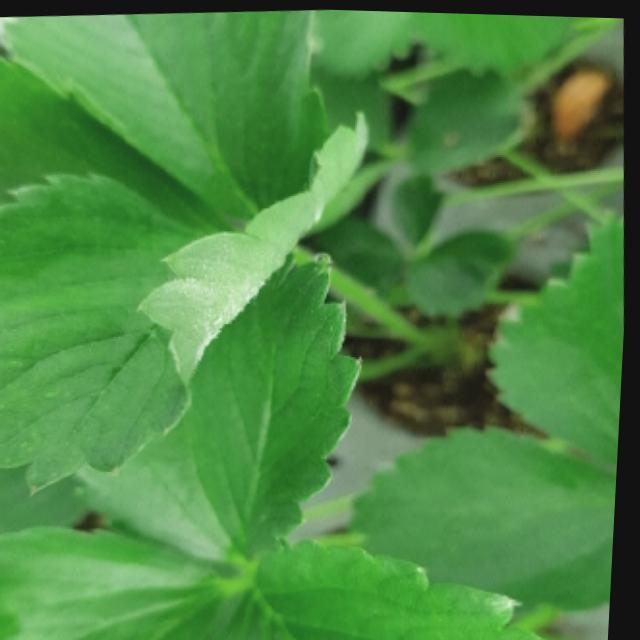Powdery Mildew Leaf: (0, 106, 372, 496)
